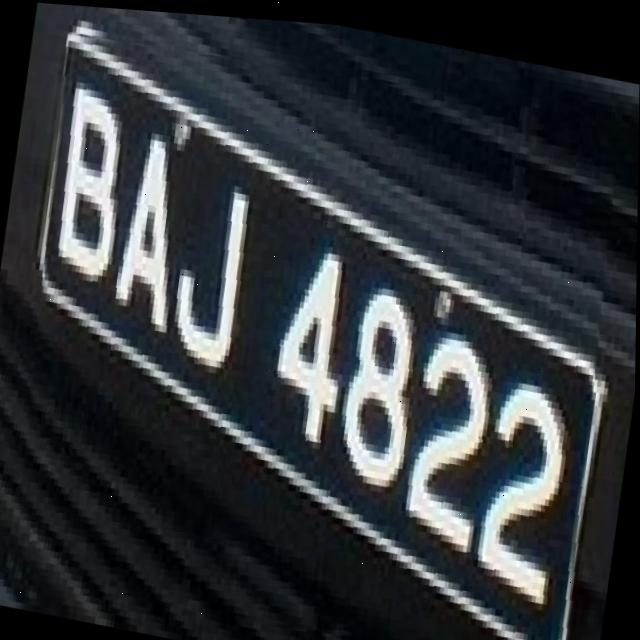LicensePlate: (0, 12, 635, 640)
